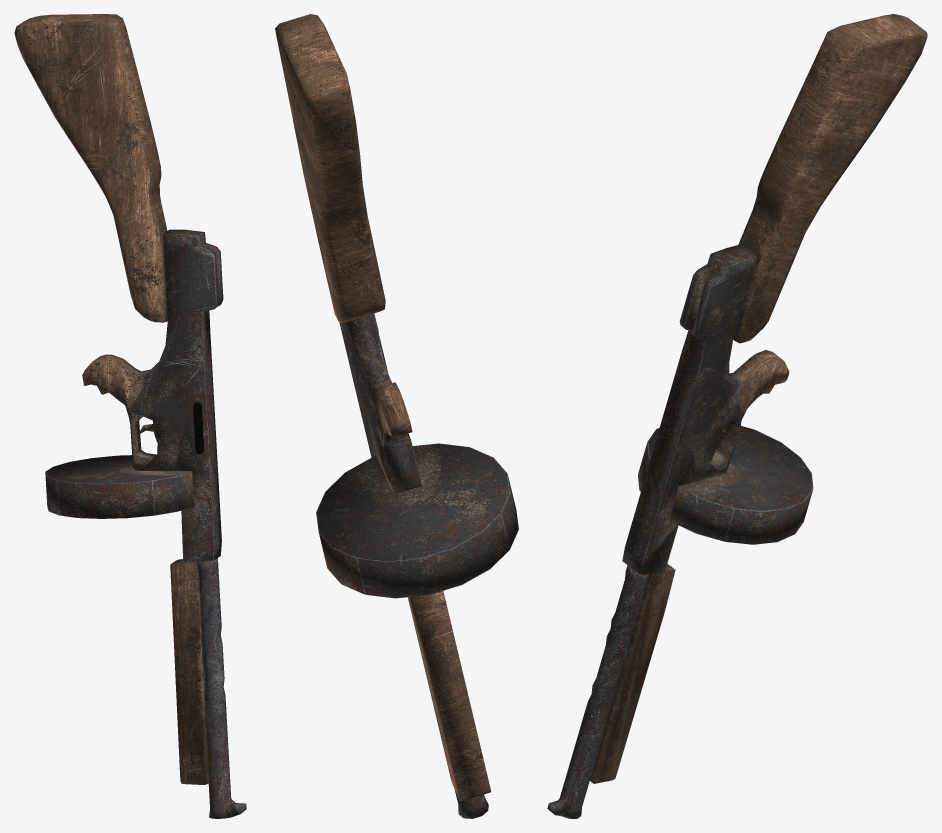
The model's file is Anim_idle_ametralladora_objetos.0045.obj.
3 views of the same model, side by side, from view 1: azimuth 30°, elevation 25°; view 2: azimuth 150°, elevation 25°; view 3: azimuth 270°, elevation 25° (orthographic). The views are drawn at different scales.
Visible parts, largest first — view 1: Ametralladora1; view 2: Ametralladora1; view 3: Ametralladora1.
Boxes of the visible parts, <box> form: Ametralladora1: <box>14,14,246,818</box>; Ametralladora1: <box>275,14,518,818</box>; Ametralladora1: <box>547,14,927,818</box>.
Size of the model in its own units: 1.35 by 5.78 by 2.53.
